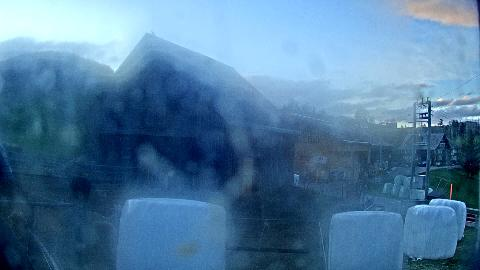car: (418, 161, 426, 167)
sheep: (58, 204, 122, 252), (78, 220, 118, 270), (0, 216, 36, 270), (69, 175, 91, 209), (334, 197, 374, 215), (6, 211, 26, 237)
